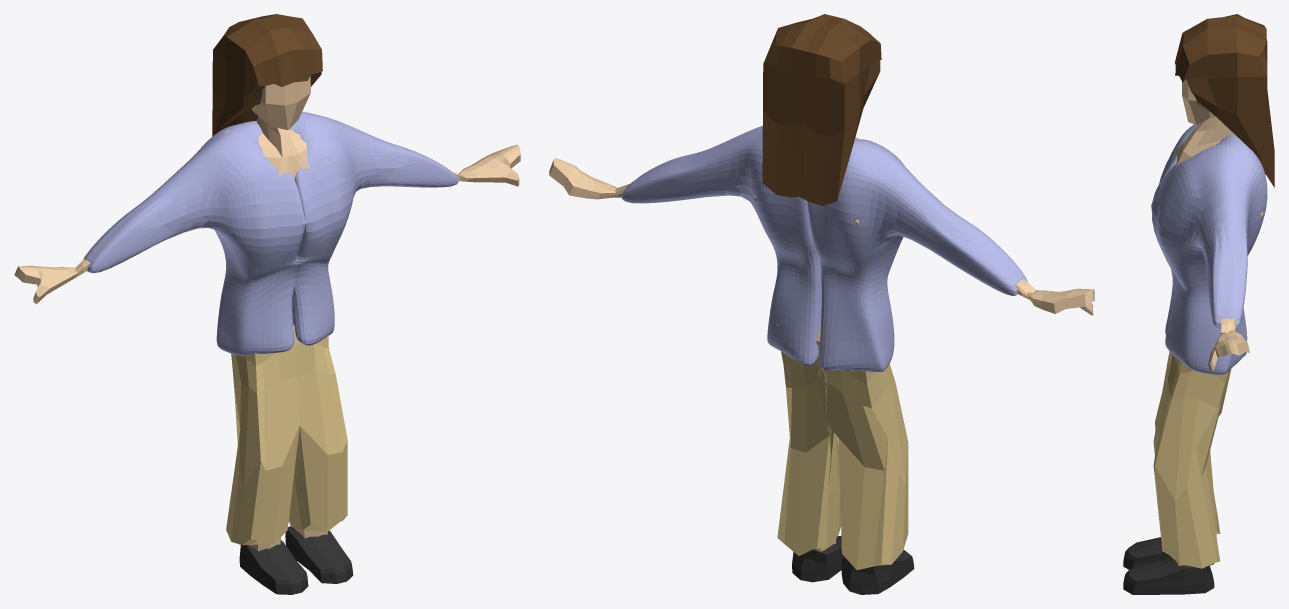
The model's file is Random+F.fbx.
The picture shows the model from 3 angles, left to right: view 1: azimuth 30°, elevation 25°; view 2: azimuth 150°, elevation 25°; view 3: azimuth 270°, elevation 25°; orthographic projection. The views are drawn at different scales.
Parts seen in each view (by area): view 1: Cube.001, Cube.002, Cube.004, Cube, Cube.003; view 2: Cube.001, Cube.002, Cube.004, Cube, Cube.003; view 3: Cube.001, Cube.002, Cube.004, Cube.003, Cube.
Boxes of the visible parts, bbox=[...] form: Cube.001: bbox=[83, 111, 458, 355]; Cube.002: bbox=[226, 325, 347, 545]; Cube.004: bbox=[212, 14, 322, 136]; Cube: bbox=[14, 76, 520, 551]; Cube.003: bbox=[239, 526, 353, 594]; Cube.001: bbox=[622, 126, 1027, 372]; Cube.002: bbox=[777, 348, 908, 570]; Cube.004: bbox=[762, 14, 881, 205]; Cube: bbox=[549, 137, 1094, 551]; Cube.003: bbox=[792, 536, 914, 594]; Cube.001: bbox=[1151, 124, 1267, 374]; Cube.002: bbox=[1153, 351, 1231, 568]; Cube.004: bbox=[1175, 14, 1274, 187]; Cube.003: bbox=[1123, 537, 1214, 594]; Cube: bbox=[1175, 80, 1262, 565].
Bounding box in the file's own units: 1878 × 1896 × 470.
